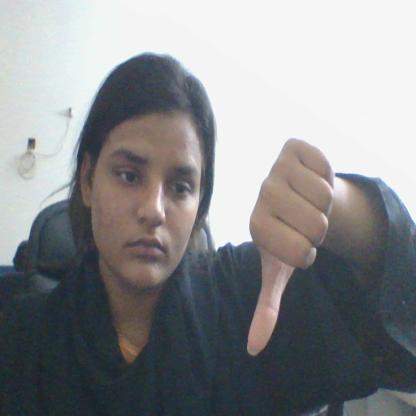thumbs-down: (232, 124, 338, 354)
